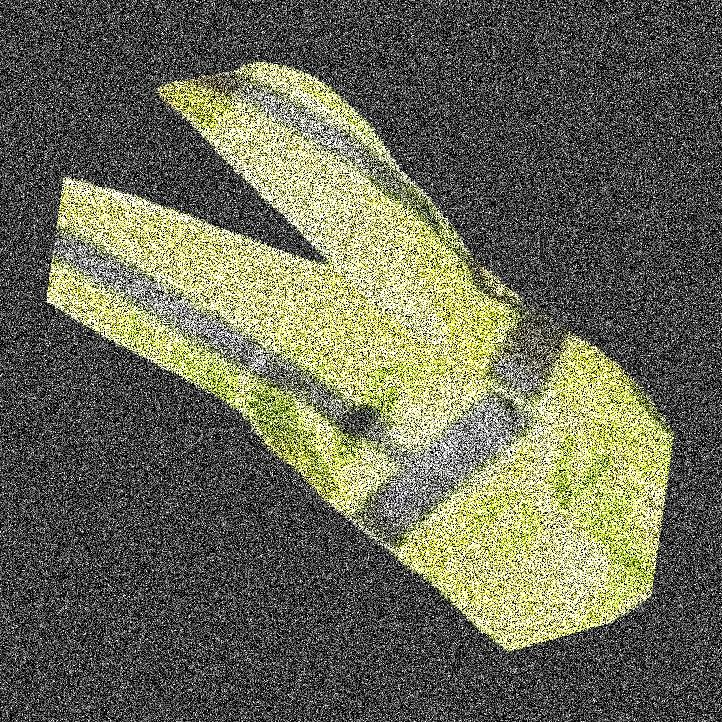Colete: (246, 0, 571, 721)
